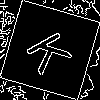K: (25, 25, 81, 77)
